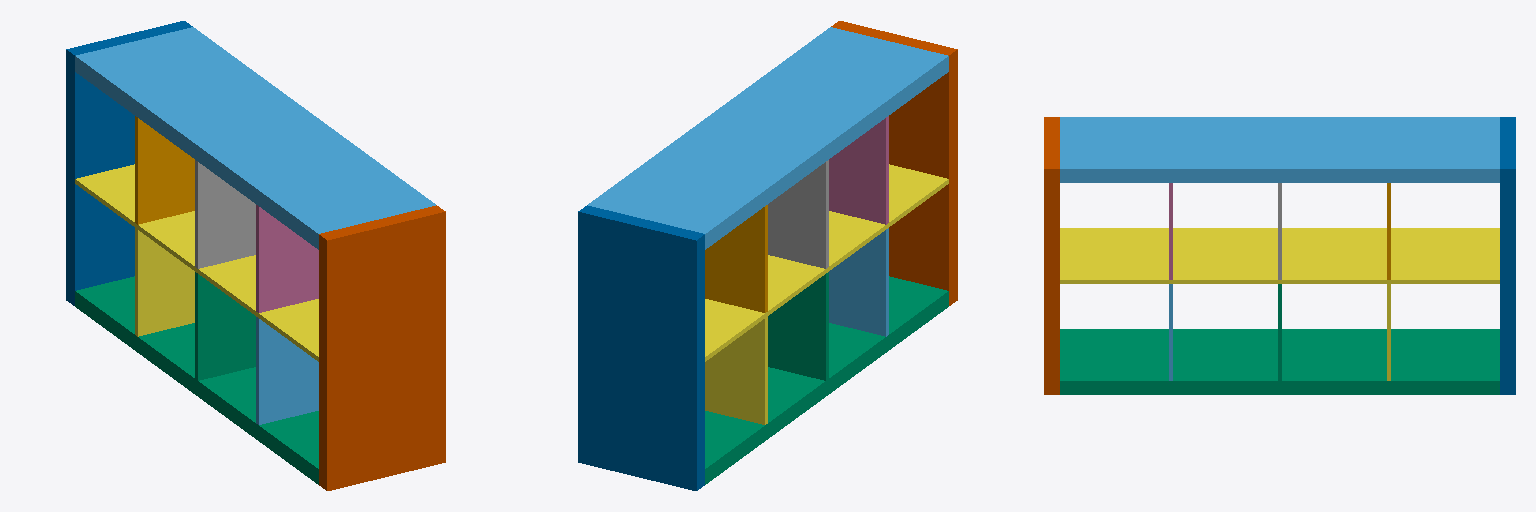
robot.urdf — bookcase:
<?xml version="1.0" ?>
<!-- =================================================================================== -->
<!-- |    This document was autogenerated by xacro from bookcase.urdf.xacro            | -->
<!-- |    EDITING THIS FILE BY HAND IS NOT RECOMMENDED                                 | -->
<!-- =================================================================================== -->
<robot name="bookcase" xmlns:body="http://playerstage.sourceforge.net/gazebo/xmlschema/#body" xmlns:controller="http://playerstage.sourceforge.net/gazebo/xmlschema/#controller" xmlns:gazebo="http://playerstage.sourceforge.net/gazebo/xmlschema/#gz" xmlns:geom="http://playerstage.sourceforge.net/gazebo/xmlschema/#geom" xmlns:interface="http://playerstage.sourceforge.net/gazebo/xmlschema/#interface" xmlns:joint="http://playerstage.sourceforge.net/gazebo/xmlschema/#joint" xmlns:model="http://playerstage.sourceforge.net/gazebo/xmlschema/#model" xmlns:physics="http://playerstage.sourceforge.net/gazebo/xmlschema/#physics" xmlns:renderable="http://playerstage.sourceforge.net/gazebo/xmlschema/#renderable" xmlns:rendering="http://playerstage.sourceforge.net/gazebo/xmlschema/#rendering" xmlns:sensor="http://playerstage.sourceforge.net/gazebo/xmlschema/#sensor" xmlns:xi="http://www.w3.org/2001/XInclude">
  <!-- dummy_link -->
  <link name="dummy_link">
    <inertial>
      <origin xyz="0 0 0"/>
      <mass value="5.0"/>
      <inertia ixx="0.0" ixy="0.0" ixz="0.0" iyy="0.0" iyz="0.0" izz="0.0"/>
    </inertial>
    <visual>
      <origin xyz="0 0 0"/>
      <geometry>
        <box size="0.00 0.00 0.00"/>
      </geometry>
    </visual>
    <collision>
      <origin xyz="0 0 0"/>
      <geometry>
        <box size="0.00 0.00 0.00"/>
      </geometry>
    </collision>
  </link>
  <!-- bookcase -->
  <!-- bookcase_top -->
  <link name="bookcase_top_link">
    <inertial>
      <origin xyz="0 0 0"/>
      <mass value="5.0"/>
      <inertia ixx="0.0" ixy="0.0" ixz="0.0" iyy="0.0" iyz="0.0" izz="0.0"/>
    </inertial>
    <visual>
      <origin xyz="0 0 0"/>
      <geometry>
        <box size="0.39 1.39 0.05"/>
      </geometry>
    </visual>
    <collision>
      <origin xyz="0 0 0"/>
      <geometry>
        <box size="0.39 1.39 0.05"/>
      </geometry>
    </collision>
  </link>
  <gazebo reference="bookcase_top_link">
    <material>Gazebo/White</material>
  </gazebo>
  <joint name="joint_bookcase_top" type="fixed">
    <origin rpy="0 0 0" xyz="0.000 0.000 0.765"/>
    <parent link="dummy_link"/>
    <child link="bookcase_top_link"/>
  </joint>
  <!-- bookcase_bottom -->
  <link name="bookcase_bottom_link">
    <inertial>
      <origin xyz="0 0 0"/>
      <mass value="5.0"/>
      <inertia ixx="0.0" ixy="0.0" ixz="0.0" iyy="0.0" iyz="0.0" izz="0.0"/>
    </inertial>
    <visual>
      <origin xyz="0 0 0"/>
      <geometry>
        <box size="0.39 1.39 0.05"/>
      </geometry>
    </visual>
    <collision>
      <origin xyz="0 0 0"/>
      <geometry>
        <box size="0.39 1.39 0.05"/>
      </geometry>
    </collision>
  </link>
  <gazebo reference="bookcase_bottom_link">
    <material>Gazebo/White</material>
  </gazebo>
  <joint name="joint_bookcase_bottom" type="fixed">
    <origin rpy="0 0 0" xyz="0.000 0.000 0.025"/>
    <parent link="dummy_link"/>
    <child link="bookcase_bottom_link"/>
  </joint>
  <!-- bookcase_middle -->
  <link name="bookcase_middle">
    <inertial>
      <origin xyz="0 0 0"/>
      <mass value="5.0"/>
      <inertia ixx="0.0" ixy="0.0" ixz="0.0" iyy="0.0" iyz="0.0" izz="0.0"/>
    </inertial>
    <visual>
      <origin xyz="0 0 0"/>
      <geometry>
        <box size="0.39 1.39 0.015"/>
      </geometry>
    </visual>
    <collision>
      <origin xyz="0 0 0"/>
      <geometry>
        <box size="0.39 1.39 0.015"/>
      </geometry>
    </collision>
  </link>
  <gazebo reference="bookcase_middle">
    <material>Gazebo/White</material>
  </gazebo>
  <joint name="joint_bookcase_middle" type="fixed">
    <origin rpy="0 0 0" xyz="0.000 0.000 0.395"/>
    <parent link="dummy_link"/>
    <child link="bookcase_middle"/>
  </joint>
  <!-- bookcase_right -->
  <link name="bookcase_right">
    <inertial>
      <origin xyz="0 0 0"/>
      <mass value="5.0"/>
      <inertia ixx="0.0" ixy="0.0" ixz="0.0" iyy="0.0" iyz="0.0" izz="0.0"/>
    </inertial>
    <visual>
      <origin xyz="0 0 0"/>
      <geometry>
        <box size="0.39 0.05 0.79"/>
      </geometry>
    </visual>
    <collision>
      <origin xyz="0 0 0"/>
      <geometry>
        <box size="0.39 0.05 0.79"/>
      </geometry>
    </collision>
  </link>
  <gazebo reference="bookcase_right">
    <material>Gazebo/White</material>
  </gazebo>
  <joint name="joint_bookcase_right" type="fixed">
    <origin rpy="0 0 0" xyz="0.0 0.72 0.395"/>
    <parent link="dummy_link"/>
    <child link="bookcase_right"/>
  </joint>
  <!-- bookcase_left -->
  <link name="bookcase_left">
    <inertial>
      <origin xyz="0 0 0"/>
      <mass value="5.0"/>
      <inertia ixx="0.0" ixy="0.0" ixz="0.0" iyy="0.0" iyz="0.0" izz="0.0"/>
    </inertial>
    <visual>
      <origin xyz="0 0 0"/>
      <geometry>
        <box size="0.39 0.05 0.79"/>
      </geometry>
    </visual>
    <collision>
      <origin xyz="0 0 0"/>
      <geometry>
        <box size="0.39 0.05 0.79"/>
      </geometry>
    </collision>
  </link>
  <gazebo reference="bookcase_left">
    <material>Gazebo/White</material>
  </gazebo>
  <joint name="joint_bookcase_left" type="fixed">
    <origin rpy="0 0 0" xyz="0.0 -0.72 0.395"/>
    <parent link="dummy_link"/>
    <child link="bookcase_left"/>
  </joint>
  <!--Separations-->
  <link name="separation_1_link">
    <inertial>
      <origin xyz="0 0 0"/>
      <mass value="0.5"/>
      <inertia ixx="0" ixy="0" ixz="0" iyy="0" iyz="0" izz="0"/>
    </inertial>
    <visual>
      <origin xyz="0 0 0"/>
      <geometry>
        <box size="0.39 0.015 0.3375"/>
      </geometry>
    </visual>
    <collision>
      <origin xyz="0 0 0"/>
      <geometry>
        <box size="0.39 0.015 0.33"/>
      </geometry>
    </collision>
  </link>
  <gazebo reference="separations">
    <material>Gazebo/White</material>
    <turnGravityOff>false</turnGravityOff>
  </gazebo>
  <joint name="separation_1_joint" type="fixed">
    <parent link="bookcase_top_link"/>
    <origin rpy="0 0 0" xyz="0 -0.345 -0.19375"/>
    <child link="separation_1_link"/>
  </joint>
  <link name="separation_2_link">
    <inertial>
      <origin xyz="0 0 0"/>
      <mass value="0.5"/>
      <inertia ixx="0" ixy="0" ixz="0" iyy="0" iyz="0" izz="0"/>
    </inertial>
    <visual>
      <origin xyz="0 0 0"/>
      <geometry>
        <box size="0.39 0.015 0.3375"/>
      </geometry>
    </visual>
    <collision>
      <origin xyz="0 0 0"/>
      <geometry>
        <box size="0.39 0.015 0.33"/>
      </geometry>
    </collision>
  </link>
  <gazebo reference="separations">
    <material>Gazebo/White</material>
    <turnGravityOff>false</turnGravityOff>
  </gazebo>
  <joint name="separation_2_joint" type="fixed">
    <parent link="bookcase_top_link"/>
    <origin rpy="0 0 0" xyz="0 0 -0.19375"/>
    <child link="separation_2_link"/>
  </joint>
  <link name="separation_3_link">
    <inertial>
      <origin xyz="0 0 0"/>
      <mass value="0.5"/>
      <inertia ixx="0" ixy="0" ixz="0" iyy="0" iyz="0" izz="0"/>
    </inertial>
    <visual>
      <origin xyz="0 0 0"/>
      <geometry>
        <box size="0.39 0.015 0.3375"/>
      </geometry>
    </visual>
    <collision>
      <origin xyz="0 0 0"/>
      <geometry>
        <box size="0.39 0.015 0.33"/>
      </geometry>
    </collision>
  </link>
  <gazebo reference="separations">
    <material>Gazebo/White</material>
    <turnGravityOff>false</turnGravityOff>
  </gazebo>
  <joint name="separation_3_joint" type="fixed">
    <parent link="bookcase_top_link"/>
    <origin rpy="0 0 0" xyz="0 0.345 -0.19375"/>
    <child link="separation_3_link"/>
  </joint>
  <link name="separation_4_link">
    <inertial>
      <origin xyz="0 0 0"/>
      <mass value="0.5"/>
      <inertia ixx="0" ixy="0" ixz="0" iyy="0" iyz="0" izz="0"/>
    </inertial>
    <visual>
      <origin xyz="0 0 0"/>
      <geometry>
        <box size="0.39 0.015 0.3375"/>
      </geometry>
    </visual>
    <collision>
      <origin xyz="0 0 0"/>
      <geometry>
        <box size="0.39 0.015 0.33"/>
      </geometry>
    </collision>
  </link>
  <gazebo reference="separations">
    <material>Gazebo/White</material>
    <turnGravityOff>false</turnGravityOff>
  </gazebo>
  <joint name="separation_4_joint" type="fixed">
    <parent link="bookcase_bottom_link"/>
    <origin rpy="0 0 0" xyz="0 -0.345 0.19375"/>
    <child link="separation_4_link"/>
  </joint>
  <link name="separation_5_link">
    <inertial>
      <origin xyz="0 0 0"/>
      <mass value="0.5"/>
      <inertia ixx="0" ixy="0" ixz="0" iyy="0" iyz="0" izz="0"/>
    </inertial>
    <visual>
      <origin xyz="0 0 0"/>
      <geometry>
        <box size="0.39 0.015 0.3375"/>
      </geometry>
    </visual>
    <collision>
      <origin xyz="0 0 0"/>
      <geometry>
        <box size="0.39 0.015 0.33"/>
      </geometry>
    </collision>
  </link>
  <gazebo reference="separations">
    <material>Gazebo/White</material>
    <turnGravityOff>false</turnGravityOff>
  </gazebo>
  <joint name="separation_5_joint" type="fixed">
    <parent link="bookcase_bottom_link"/>
    <origin rpy="0 0 0" xyz="0 0 0.19375"/>
    <child link="separation_5_link"/>
  </joint>
  <link name="separation_6_link">
    <inertial>
      <origin xyz="0 0 0"/>
      <mass value="0.5"/>
      <inertia ixx="0" ixy="0" ixz="0" iyy="0" iyz="0" izz="0"/>
    </inertial>
    <visual>
      <origin xyz="0 0 0"/>
      <geometry>
        <box size="0.39 0.015 0.3375"/>
      </geometry>
    </visual>
    <collision>
      <origin xyz="0 0 0"/>
      <geometry>
        <box size="0.39 0.015 0.33"/>
      </geometry>
    </collision>
  </link>
  <gazebo reference="separations">
    <material>Gazebo/White</material>
    <turnGravityOff>false</turnGravityOff>
  </gazebo>
  <joint name="separation_6_joint" type="fixed">
    <parent link="bookcase_bottom_link"/>
    <origin rpy="0 0 0" xyz="0 0.345 0.19375"/>
    <child link="separation_6_link"/>
  </joint>
</robot>

--- Render facts (derived) ---
3 views of the same robot in one strip: view 1: azimuth 30°, elevation 25°; view 2: azimuth 150°, elevation 25°; view 3: azimuth 270°, elevation 25° (orthographic).
Model bookcase with 12 links and 11 joints (11 fixed), rooted at dummy_link, posed all joints at 0.
Visible links, largest first — view 1: bookcase_left, bookcase_top_link, bookcase_right, bookcase_bottom_link, bookcase_middle, separation_1_link, separation_4_link, separation_5_link, separation_2_link, separation_3_link, separation_6_link; view 2: bookcase_right, bookcase_top_link, bookcase_left, bookcase_bottom_link, bookcase_middle, separation_3_link, separation_6_link, separation_5_link, separation_2_link, separation_1_link, separation_4_link; view 3: bookcase_top_link, bookcase_bottom_link, bookcase_middle, bookcase_right, bookcase_left.
Boxes of the visible links, <box> form: bookcase_left: <box>319,205,445,490</box>; bookcase_top_link: <box>75,27,435,249</box>; bookcase_right: <box>66,21,192,305</box>; bookcase_bottom_link: <box>75,276,318,484</box>; bookcase_middle: <box>75,164,318,361</box>; separation_1_link: <box>256,205,318,312</box>; separation_4_link: <box>256,317,318,424</box>; separation_5_link: <box>195,272,255,380</box>; separation_2_link: <box>195,160,255,268</box>; separation_3_link: <box>135,116,194,224</box>; separation_6_link: <box>135,228,194,336</box>; bookcase_right: <box>578,205,704,490</box>; bookcase_top_link: <box>588,27,948,249</box>; bookcase_left: <box>831,21,957,305</box>; bookcase_bottom_link: <box>705,276,948,484</box>; bookcase_middle: <box>705,164,948,361</box>; separation_3_link: <box>705,205,767,312</box>; separation_6_link: <box>705,317,767,424</box>; separation_5_link: <box>768,272,828,380</box>; separation_2_link: <box>768,160,828,268</box>; separation_1_link: <box>829,116,888,224</box>; separation_4_link: <box>829,228,888,336</box>; bookcase_top_link: <box>1060,117,1499,182</box>; bookcase_bottom_link: <box>1060,329,1499,394</box>; bookcase_middle: <box>1060,228,1499,283</box>; bookcase_right: <box>1500,117,1515,394</box>; bookcase_left: <box>1044,117,1059,394</box>.
Size in the robot's own frame: 0.39 by 1.49 by 0.79 metres.
Geometry: primitives only (box / cylinder / sphere), no mesh files.